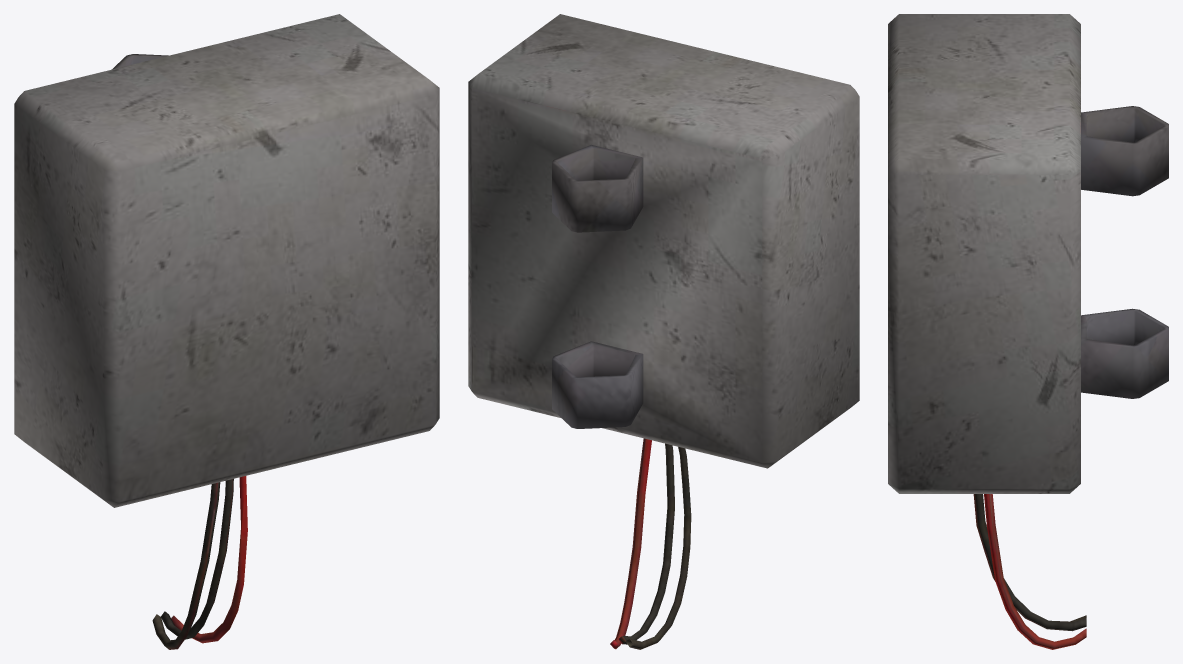
File: electric_box.glb
The picture shows the model from 3 angles, left to right: view 1: azimuth 30°, elevation 25°; view 2: azimuth 150°, elevation 25°; view 3: azimuth 270°, elevation 25°; orthographic projection. The views are drawn at different scales.
Visible parts, largest first — view 1: electric_box; view 2: electric_box; view 3: electric_box.
Part boxes in pixels (x1=…): electric_box: x1=14, y1=14, x2=439, y2=649; electric_box: x1=468, y1=14, x2=859, y2=649; electric_box: x1=888, y1=14, x2=1168, y2=649.
Bounding box in the file's own units: 0.2429 × 0.4059 × 0.1853.
1 material, 1 textured.
